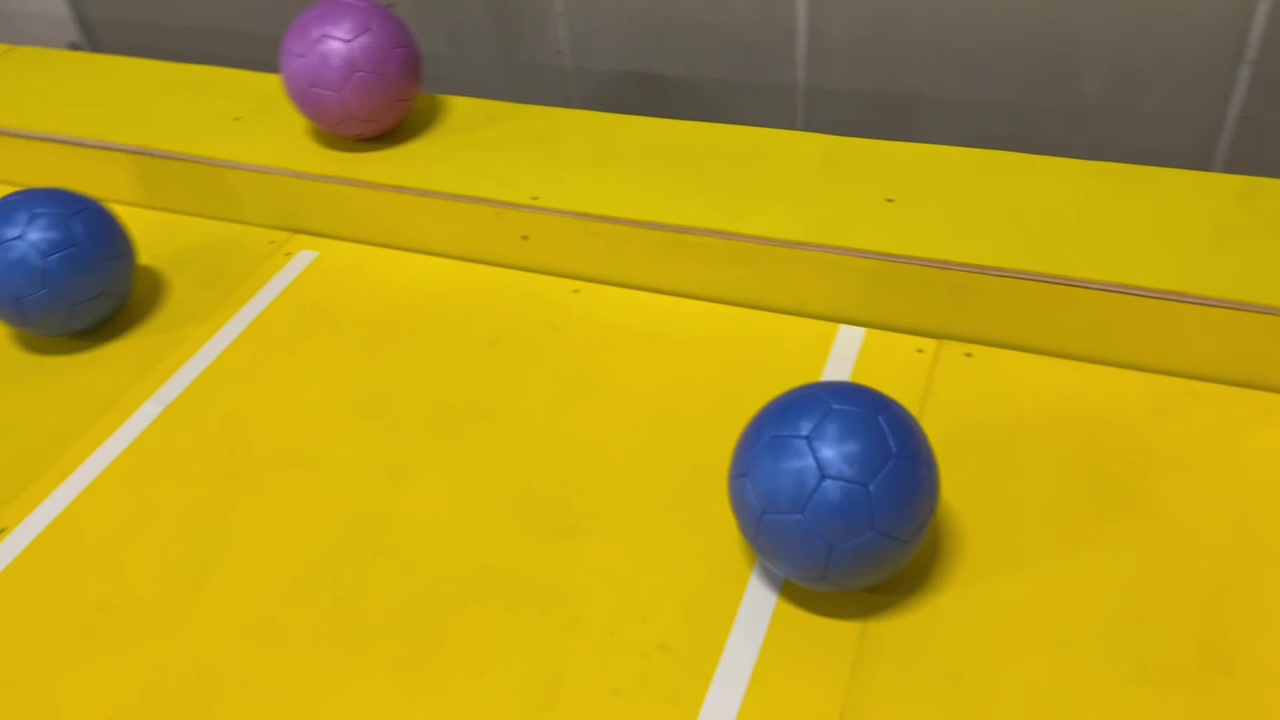blue: (713, 382, 951, 596), (0, 174, 135, 361)
